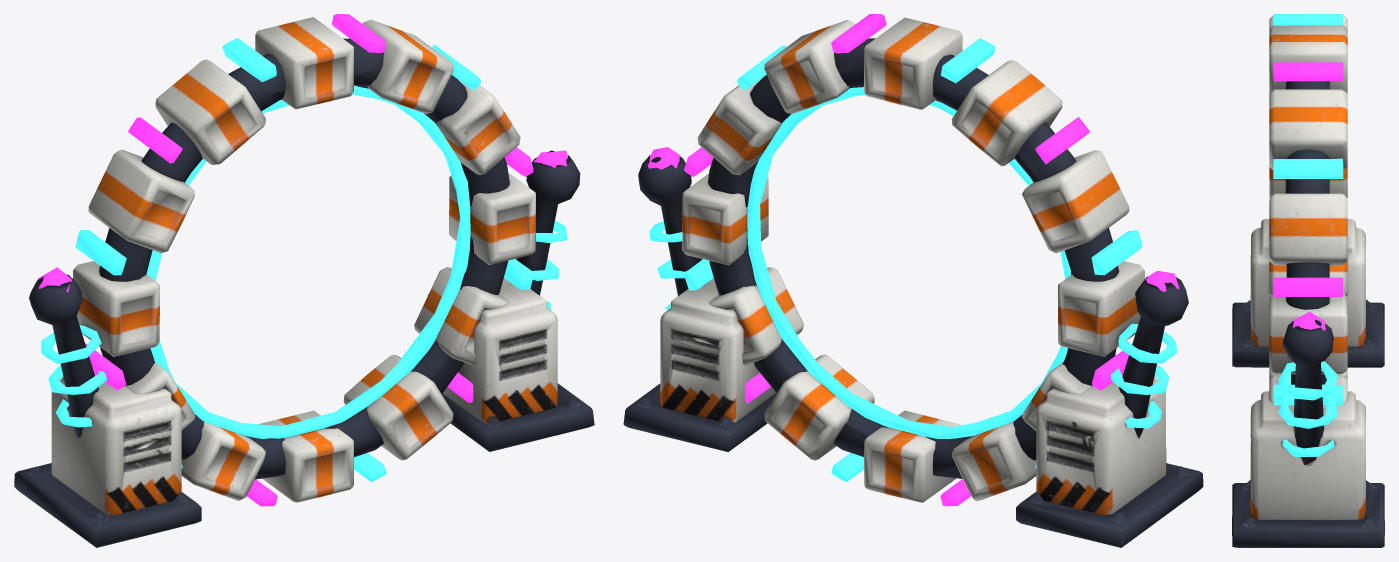
The model's file is time_portal.glb.
3 renders of one model, left to right at view 1: azimuth 30°, elevation 25°; view 2: azimuth 150°, elevation 25°; view 3: azimuth 270°, elevation 25°, orthographic. The views are drawn at different scales.
Visible parts, largest first — view 1: Portal, PortalLights; view 2: Portal, PortalLights; view 3: Portal, PortalLights.
Part boxes in pixels (x1=…): Portal: x1=14, y1=17, x2=594, y2=547; PortalLights: x1=75, y1=14, x2=534, y2=506; Portal: x1=623, y1=17, x2=1203, y2=547; PortalLights: x1=684, y1=14, x2=1142, y2=506; Portal: x1=1232, y1=14, x2=1384, y2=547; PortalLights: x1=1273, y1=14, x2=1343, y2=405.
Size of the model in its own units: 4.48 by 3.51 by 1.16.
Materials: 3 (1 with a texture image).
